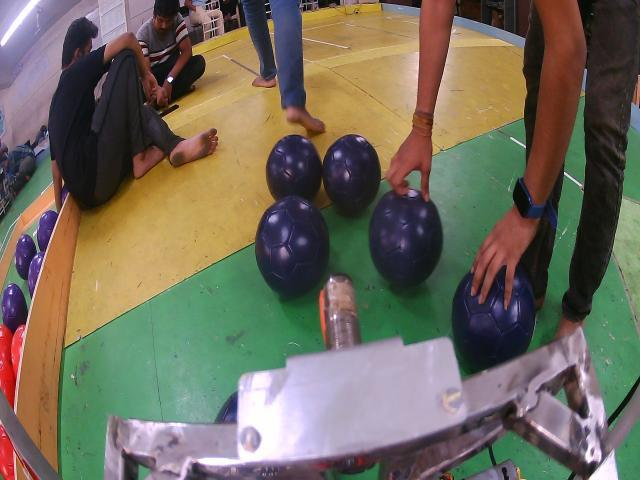jambhalya: (1, 283, 28, 333), (15, 235, 36, 280), (36, 210, 58, 252), (28, 252, 45, 298)
kaalyya: (451, 267, 536, 372), (255, 197, 330, 297), (369, 188, 442, 287), (322, 133, 381, 214), (266, 135, 321, 200), (215, 392, 238, 423)
